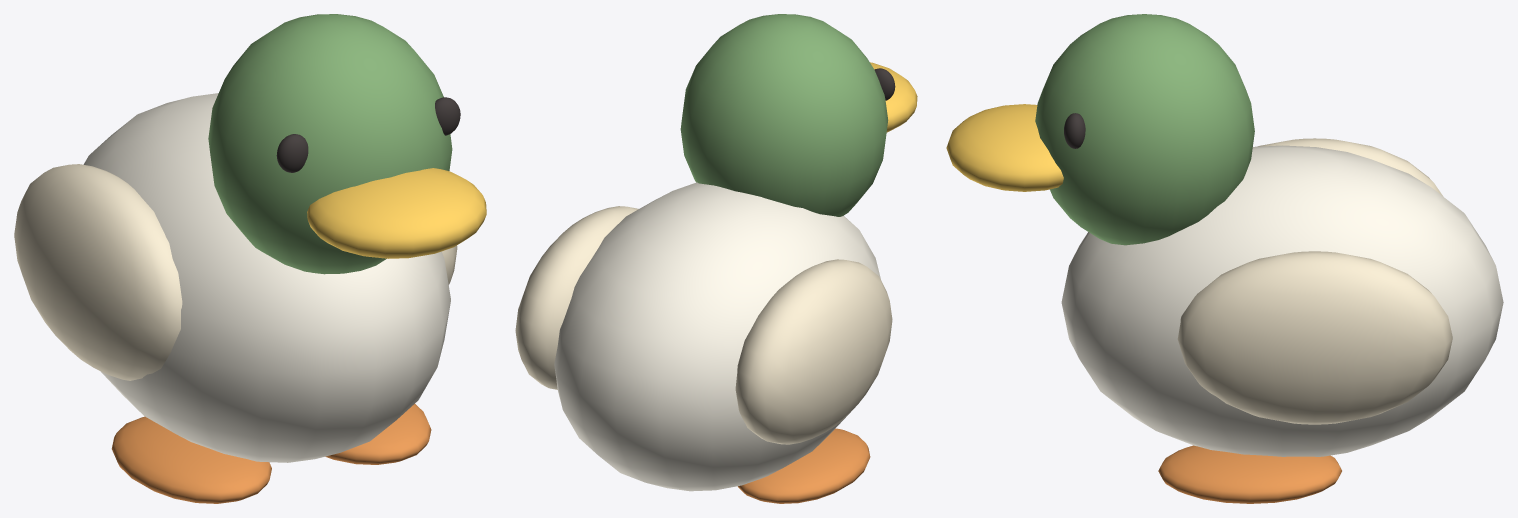
Rendered from duck.glb.
3 renders of one model, left to right at view 1: azimuth 30°, elevation 25°; view 2: azimuth 150°, elevation 25°; view 3: azimuth 270°, elevation 25°, orthographic. The views are drawn at different scales.
Parts seen in each view (by area): view 1: Body.002, Green head, Wing.002, Bill, Webbed foot, Webbed foot.001, Eye.020, Eye.021; view 2: Body.002, Green head, Wing.002, Wing.003, Webbed foot, Bill; view 3: Body.002, Green head, Wing.003, Webbed foot.001, Bill, Wing.002, Eye.021.
Part boxes in pixels (x1,y1,x2,y2): Body.002: [83, 93, 450, 462]; Green head: [208, 14, 452, 274]; Wing.002: [14, 164, 182, 380]; Bill: [307, 168, 486, 258]; Webbed foot: [111, 416, 271, 503]; Webbed foot.001: [325, 404, 431, 464]; Eye.020: [276, 134, 308, 172]; Eye.021: [435, 97, 460, 135]; Body.002: [554, 182, 880, 491]; Green head: [680, 14, 888, 216]; Wing.002: [735, 259, 892, 444]; Wing.003: [515, 206, 638, 389]; Webbed foot: [738, 428, 870, 503]; Bill: [870, 62, 917, 132]; Body.002: [1061, 145, 1503, 456]; Green head: [1035, 14, 1254, 245]; Wing.003: [1177, 251, 1452, 424]; Webbed foot.001: [1158, 445, 1341, 503]; Bill: [946, 104, 1063, 191]; Wing.002: [1257, 138, 1443, 196]; Eye.021: [1064, 113, 1085, 148].
Bounding box in the file's own units: 0.82 × 1.03 × 1.21.
